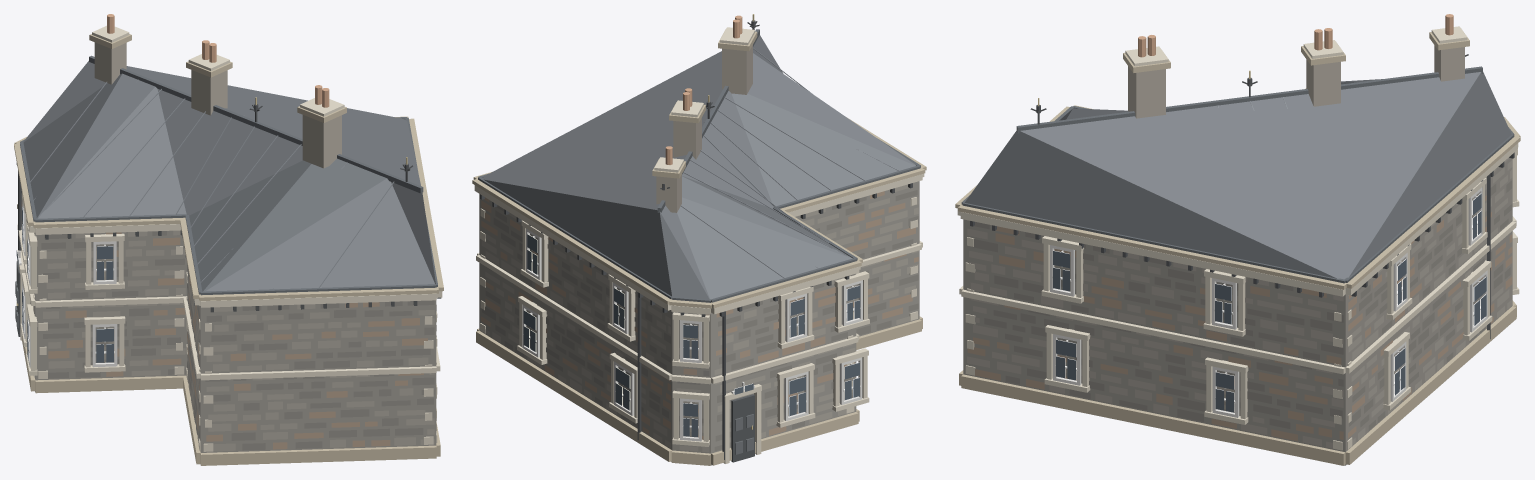
The picture shows the model from 3 angles, left to right: view 1: azimuth 30°, elevation 25°; view 2: azimuth 150°, elevation 25°; view 3: azimuth 270°, elevation 25°; orthographic projection. The views are drawn at different scales.
Visible parts, largest first — view 1: slate, rubble, ss_lt, ss_dk, rubble_lt, rubble_dk, rubble_rust, slate_dk, chim_stone, slate_lt, frame, pipe (+1 smaller); view 2: slate, rubble, ss_lt, ss_dk, rubble_lt, rubble_dk, rubble_rust, frame, slate_dk, chim_stone, pipe, slate_lt (+2 smaller); view 3: slate, rubble, ss_lt, rubble_lt, ss_dk, rubble_dk, rubble_rust, slate_dk, chim_stone, frame, pipe, pot.
Boxes of the visible parts, x1=… form: slate: x1=23, y1=61, x2=435, y2=291; rubble: x1=21, y1=197, x2=436, y2=465; ss_lt: x1=17, y1=25, x2=442, y2=451; ss_dk: x1=14, y1=34, x2=443, y2=465; rubble_lt: x1=21, y1=193, x2=436, y2=451; rubble_dk: x1=21, y1=209, x2=434, y2=450; rubble_rust: x1=21, y1=202, x2=436, y2=449; slate_dk: x1=20, y1=55, x2=437, y2=295; chim_stone: x1=94, y1=42, x2=341, y2=168; slate_lt: x1=30, y1=79, x2=394, y2=289; frame: x1=17, y1=202, x2=117, y2=367; pipe: x1=16, y1=104, x2=441, y2=312; slate: x1=483, y1=35, x2=916, y2=299; rubble: x1=479, y1=181, x2=919, y2=465; ss_lt: x1=474, y1=27, x2=924, y2=463; ss_dk: x1=472, y1=29, x2=926, y2=465; rubble_lt: x1=481, y1=184, x2=918, y2=452; rubble_dk: x1=482, y1=190, x2=918, y2=451; rubble_rust: x1=481, y1=191, x2=918, y2=439; frame: x1=522, y1=228, x2=862, y2=441; slate_dk: x1=478, y1=29, x2=920, y2=302; chim_stone: x1=656, y1=45, x2=752, y2=212; pipe: x1=480, y1=20, x2=912, y2=459; slate_lt: x1=680, y1=48, x2=898, y2=278; slate: x1=964, y1=72, x2=1511, y2=279; rubble: x1=963, y1=157, x2=1512, y2=465; ss_lt: x1=957, y1=26, x2=1519, y2=450; rubble_lt: x1=967, y1=157, x2=1512, y2=448; ss_dk: x1=955, y1=28, x2=1520, y2=465; rubble_dk: x1=973, y1=180, x2=1512, y2=430; rubble_rust: x1=967, y1=195, x2=1512, y2=441; slate_dk: x1=961, y1=66, x2=1514, y2=283; chim_stone: x1=1128, y1=45, x2=1464, y2=118; frame: x1=1050, y1=187, x2=1487, y2=417; pipe: x1=970, y1=54, x2=1514, y2=339; pot: x1=1138, y1=14, x2=1453, y2=57.
Size of the model in its own units: 14.28 by 10.72 by 16.35.
